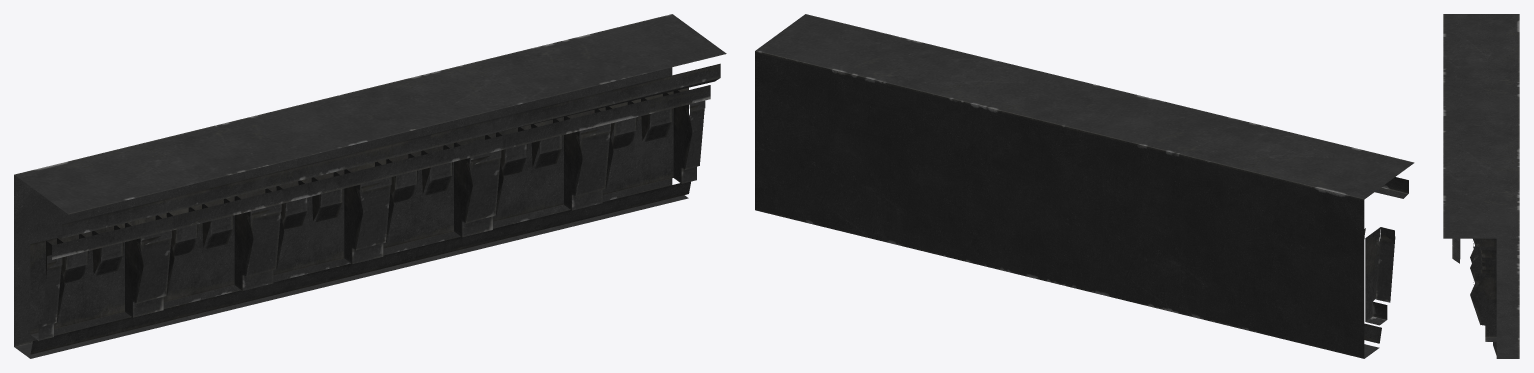
The model's file is strip_crown.gltf.
3 views of the same model, side by side, from view 1: azimuth 30°, elevation 25°; view 2: azimuth 150°, elevation 25°; view 3: azimuth 270°, elevation 25° (orthographic). The views are drawn at different scales.
Visible parts, largest first — view 1: strip_crown; view 2: strip_crown; view 3: strip_crown.
Part boxes in pixels (box(x1,y1,x2,y2)): strip_crown: box(14, 14, 726, 358); strip_crown: box(755, 14, 1414, 358); strip_crown: box(1443, 14, 1519, 358).
Bounding box in the file's own units: 3 × 0.75 × 0.43.
1 material, 1 textured.
